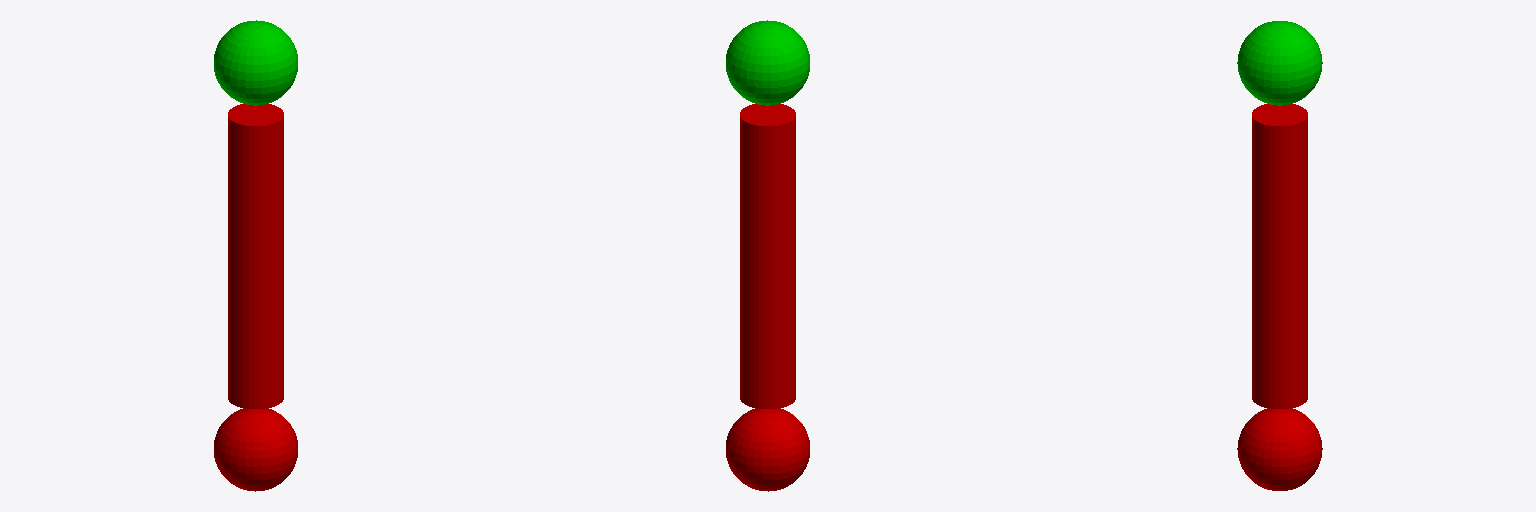
robot.urdf — cylinder:
<?xml version="0.0" ?>
<robot name="cylinder">
  <material name="red">
    <color rgba="0.8 0.0 0.0 0.5 "/>
  </material>
  <material name="green">
    <color rgba="0.0 0.8 0.0 0.5 "/>
  </material>


  <link name="elbow_link">
    <inertial>
      <origin rpy="0 0 0" xyz="0 0 0"/>
       <mass value=".0"/>
       <inertia ixx="1" ixy="0" ixz="0" iyy="1" iyz="0" izz="1"/>
    </inertial>

    <visual>
      <origin rpy="0 0 0" xyz="0 0 0"/>
      <geometry>
        <sphere radius="0.03"/>
      </geometry>
      <material name="red"/>
    </visual>

    <collision>
      <origin rpy="0 0 0" xyz="0 0 0"/>
      <geometry>
        <sphere radius="0.03"/>
      </geometry>
      <material name="red"/>
    </collision>
  </link>


  <link name="forearm_link">
        <inertial>
      <origin rpy="0 0 0" xyz="0 0 0"/>
       <mass value=".0"/>
       <inertia ixx="1" ixy="0" ixz="0" iyy="1" iyz="0" izz="1"/>
    </inertial>

    <visual>
      <origin rpy="0 0 0" xyz="0 0 0"/>
      <geometry>
        <cylinder radius="0.02" length="0.22"/>
      </geometry>
      <material name="red"/>
    </visual>

    <collision>
      <origin rpy="0 0 0" xyz="0 0 0"/>
      <geometry>
        <cylinder radius="0.02" length="0.22"/>
      </geometry>
      <material name="red"/>
    </collision>
  </link>
  


  <link name="hand_link">
    <inertial>
      <origin rpy="0 0 0" xyz="0 0 0"/>
       <mass value=".0"/>
       <inertia ixx="1" ixy="0" ixz="0" iyy="1" iyz="0" izz="1"/>
    </inertial>

    <visual>
      <origin rpy="0 0 0" xyz="0 0 0"/>
      <geometry>
        <sphere radius="0.03"/>
      </geometry>
      <material name="green"/>
    </visual>

    <collision>
      <origin rpy="0 0 0" xyz="0 0 0"/>
      <geometry>
        <sphere radius="0.03"/>
      </geometry>
      <material name="green"/>
    </collision>
  </link>


  <!-- <joint name="elbow_fixed_joint" type="fixed">
    <parent link="elbow_link"/>
    <child link="forearm_link"/>
    <origin rpy="0.0 0.0 0.0" xyz="0.0 0.0 0.15"/>
  </joint> -->

  <joint name="elbow_fixed_joint" type="fixed">
    <parent link="forearm_link"/>
    <child link="elbow_link"/>
    <origin rpy="0.0 0.0 0.0" xyz="0.0 0.0 -0.15"/>
  </joint>

  <joint name="hand_fixed_joint" type="fixed">
    <parent link="forearm_link"/>
    <child link="hand_link"/>
    <origin rpy="0.0 0.0 0.0" xyz="0.0 0.0 0.15"/>
  </joint>



</robot>

--- Render facts (derived) ---
Views: 3 orthographic renders of the robot side by side, from view 1: azimuth 30°, elevation 25°; view 2: azimuth 150°, elevation 25°; view 3: azimuth 270°, elevation 25°.
Robot: cylinder — 3 links, 2 joints (2 fixed); root link forearm_link; default pose: every joint at zero.
Visible links, largest first — view 1: forearm_link, hand_link, elbow_link; view 2: forearm_link, hand_link, elbow_link; view 3: forearm_link, hand_link, elbow_link.
Link boxes in pixels (x1,y1,x2,y2): forearm_link: [228, 104, 283, 408]; hand_link: [214, 20, 297, 105]; elbow_link: [214, 408, 297, 491]; forearm_link: [740, 104, 795, 408]; hand_link: [726, 20, 809, 105]; elbow_link: [726, 408, 809, 491]; forearm_link: [1252, 104, 1307, 408]; hand_link: [1237, 21, 1322, 105]; elbow_link: [1237, 408, 1322, 490].
Bounding box of the posed robot: 0.06 × 0.06 × 0.36 m (x, y, z).
Geometry: primitives only (box / cylinder / sphere), no mesh files.